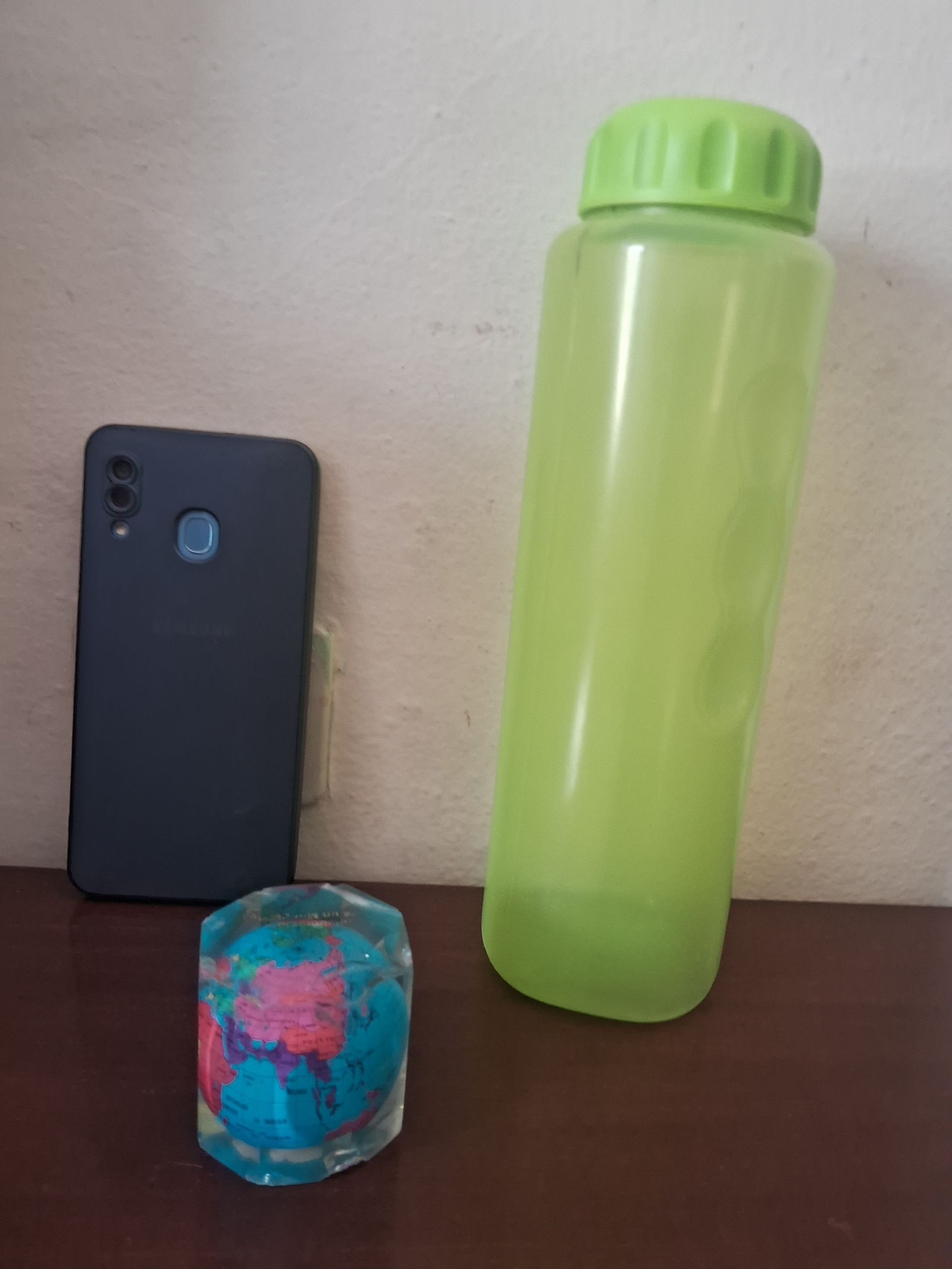Smart_phone: (54, 408, 337, 917)
Water_bottle: (472, 84, 852, 1031)
world_globe: (182, 868, 423, 1192)
